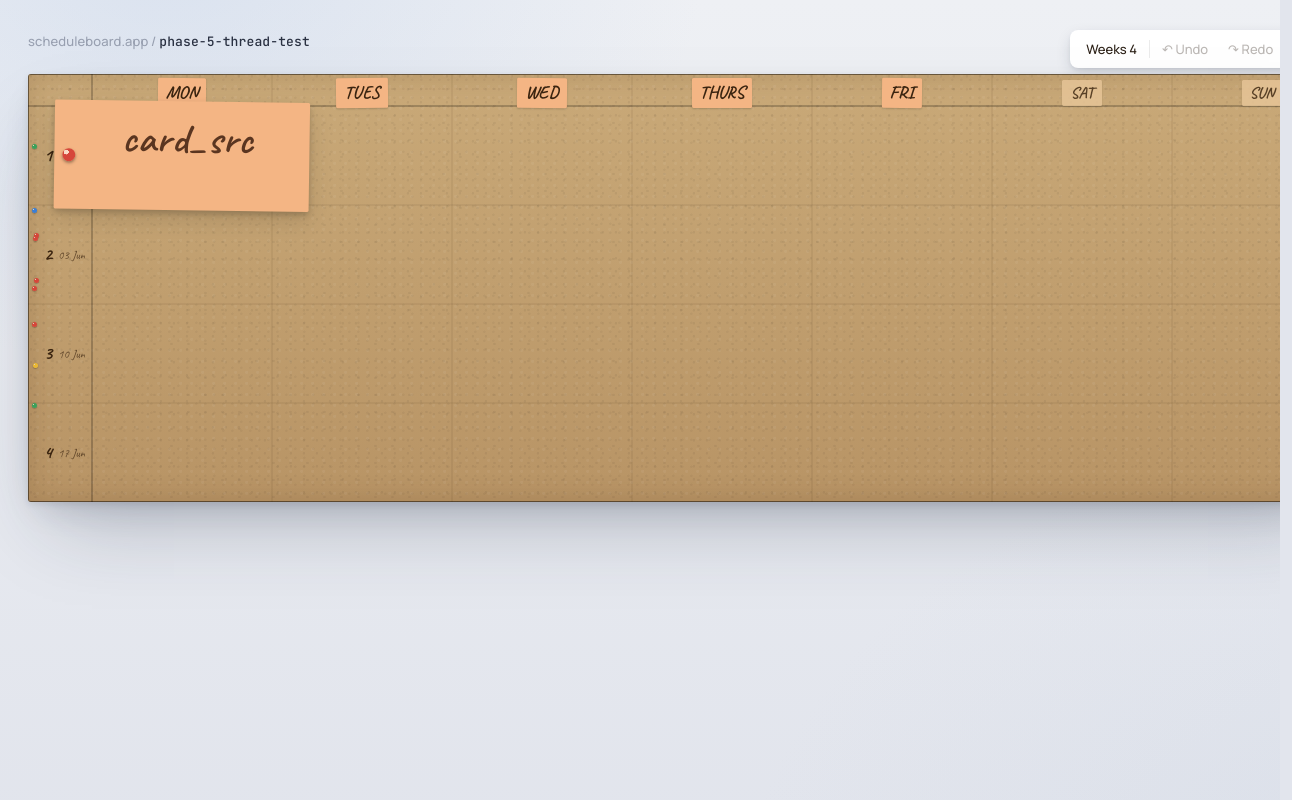
Test: Phase 5 — workflow 03 (threads create / delete / follow) › step 1 — hovering a card reveals the thread handle; pointer-leave hides it
Hover over the element showing "card_src": (182,156) [54,101,310,210]
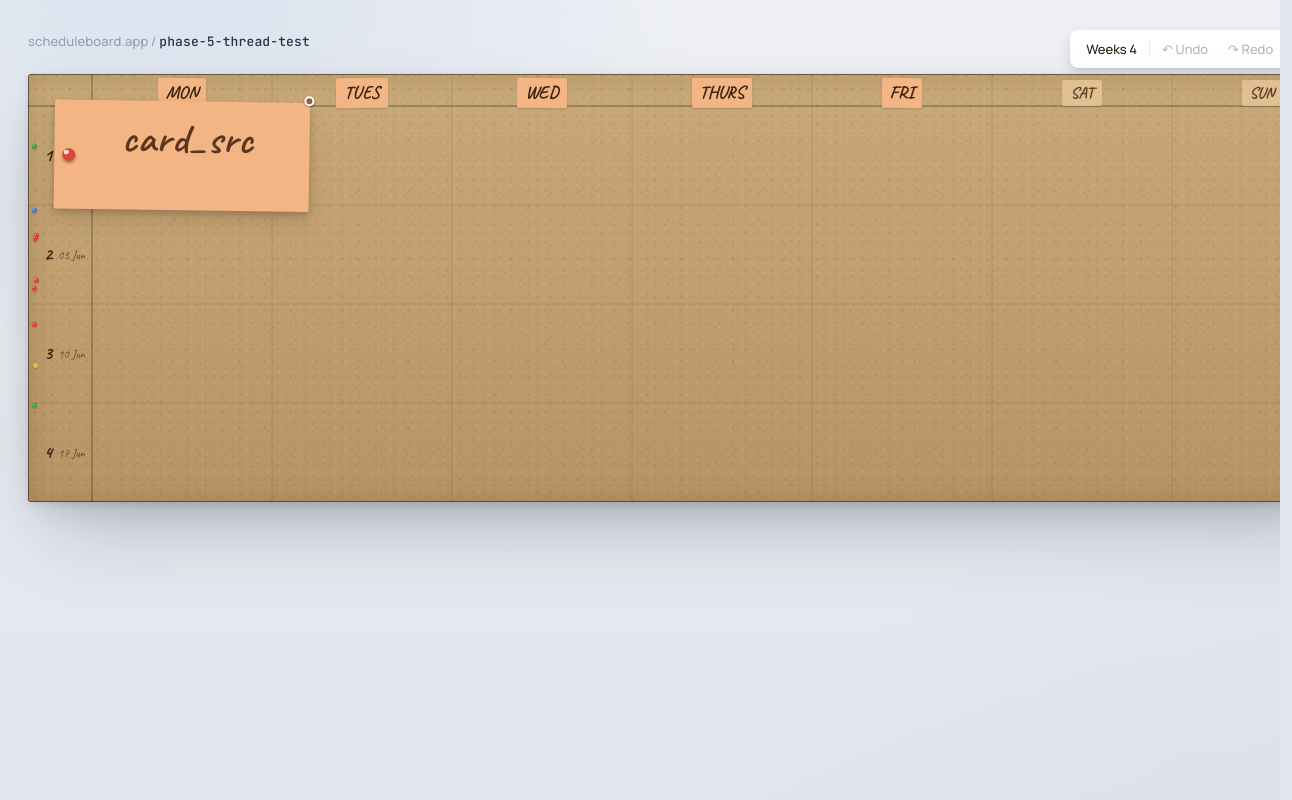
Move the pointer off the element showing "card_src", box [54,101,310,210]
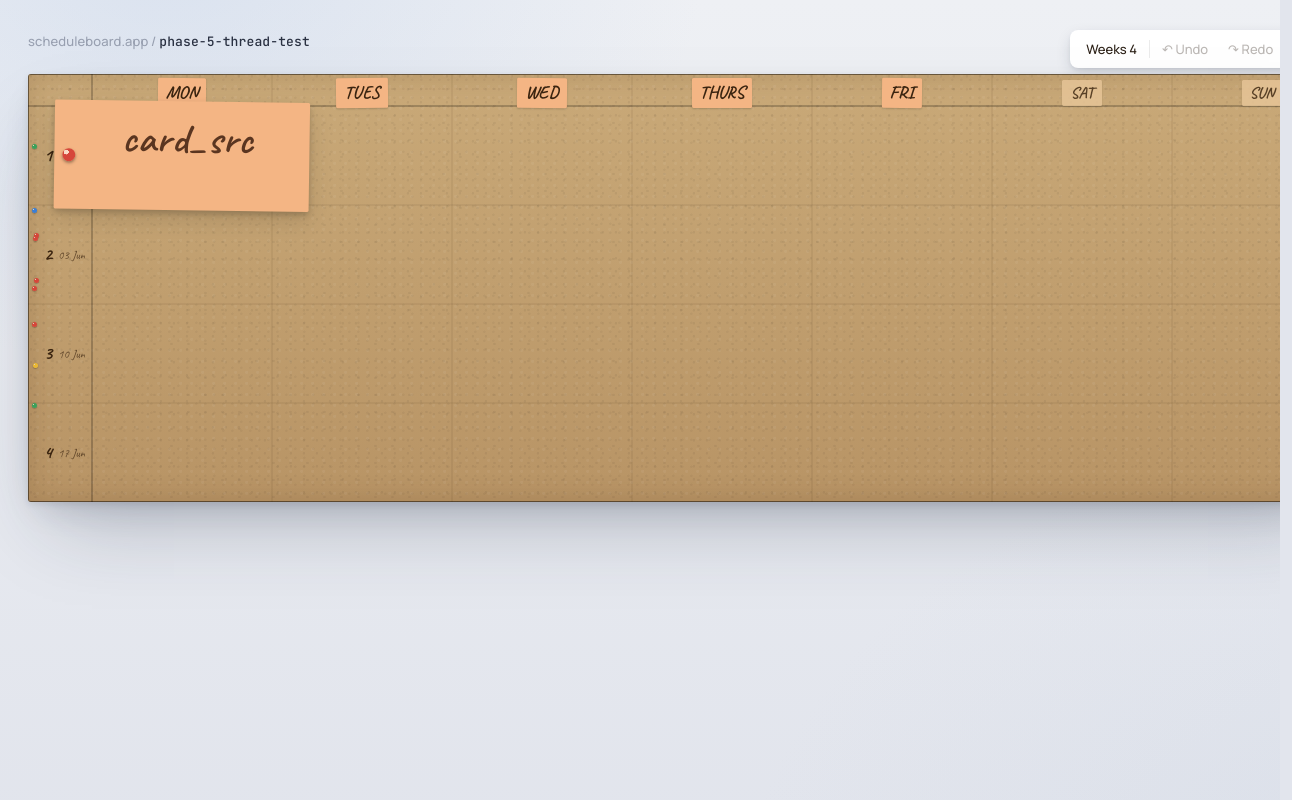
Expected: no buttons with test id "thread-handle" are shown
